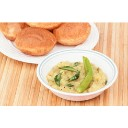poori: (15, 28, 54, 55), (56, 19, 91, 46)
